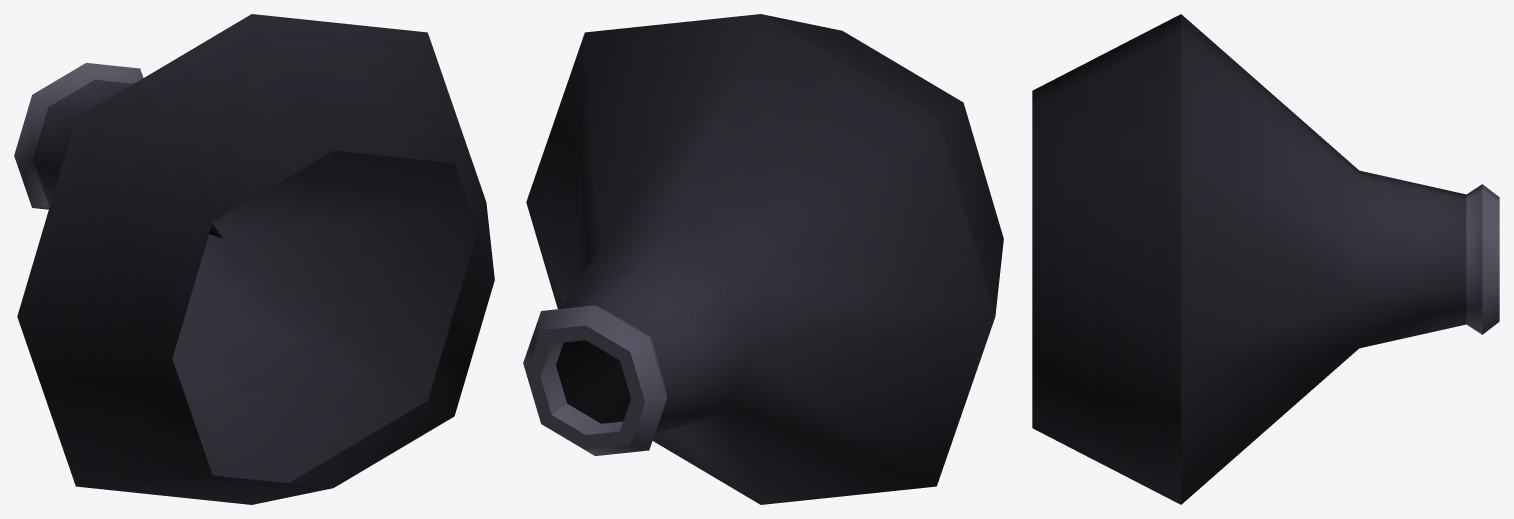
The model's file is Urn 07.FBX.
3 views of the same model, side by side, from view 1: azimuth 30°, elevation 25°; view 2: azimuth 150°, elevation 25°; view 3: azimuth 270°, elevation 25° (orthographic). The views are drawn at different scales.
Parts seen in each view (by area): view 1: Urn 07; view 2: Urn 07; view 3: Urn 07.
Part boxes in pixels (box(x1,y1,x2,y2)): Urn 07: box(14, 14, 494, 504); Urn 07: box(523, 14, 1003, 504); Urn 07: box(1032, 14, 1499, 504).
Bounding box in the file's own units: 55.41 × 55.41 × 52.55.
